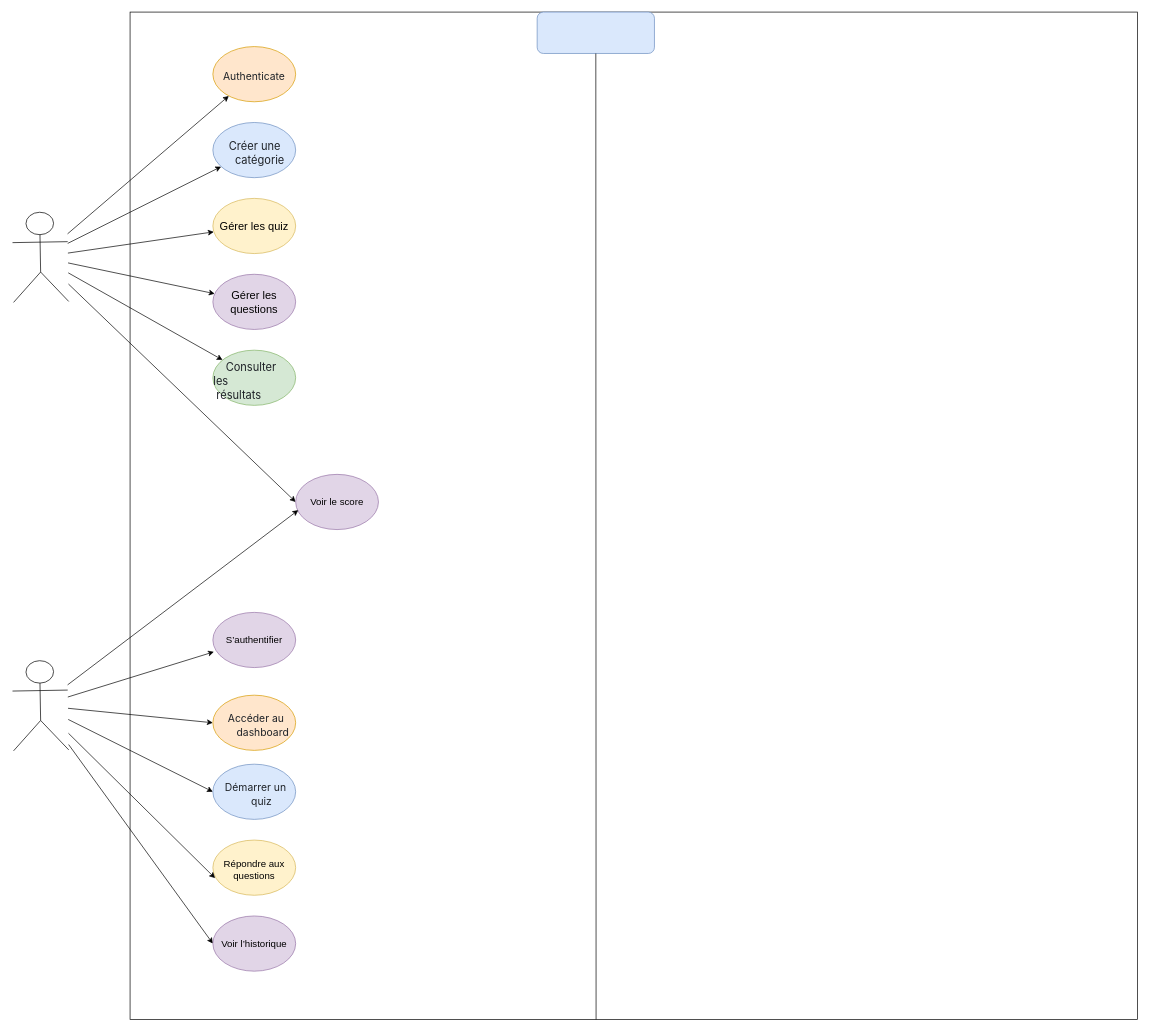
Image size: 1150x1032. Some labels were removed from this diagram. The centre of each missing label's shape, as x and y in pixels:
Enseignant: the point at 40,256
Etudiant: the point at 40,705
Quiz Platform: the point at 595,32
